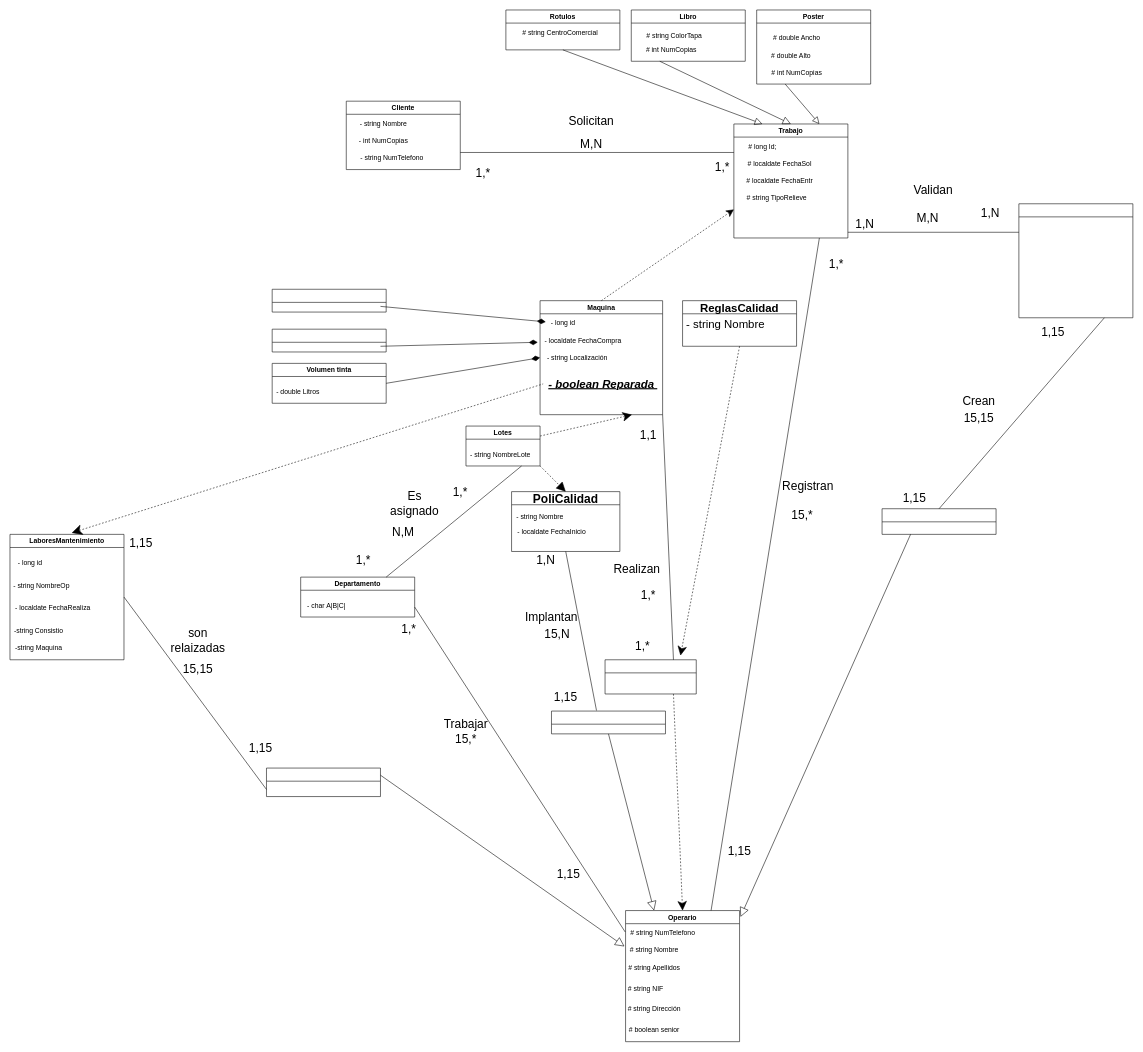
This 1143x1052 diagram has some shape labels left out. The centre of each missing label's shape, as x and y in pixels:
Modificaciones: the point at 1075,260
Modo Impresion: the point at 329,340
OpCalidad: the point at 608,722
opImpresion: the point at 939,521
OpMaquina: the point at 323,782
Pruebas: the point at 650,676
Tipo Impresion: the point at 329,300
